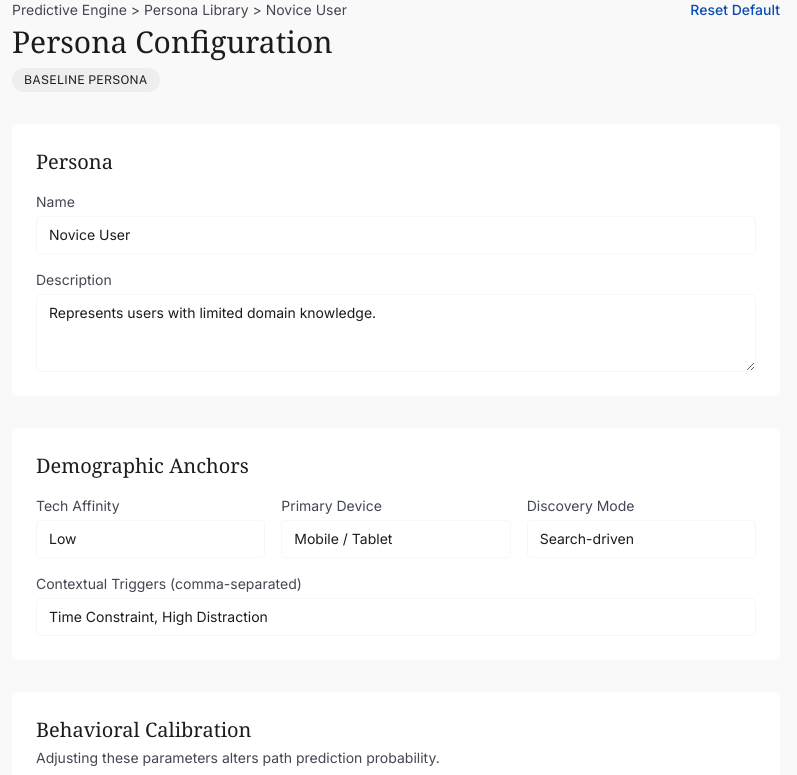
Test: PersonaConfigurationPage › resets a baseline persona to its default values
Step 1. Click the button "Reset Default" → (735, 10), box [690, 0, 780, 20]
(page scrolled)
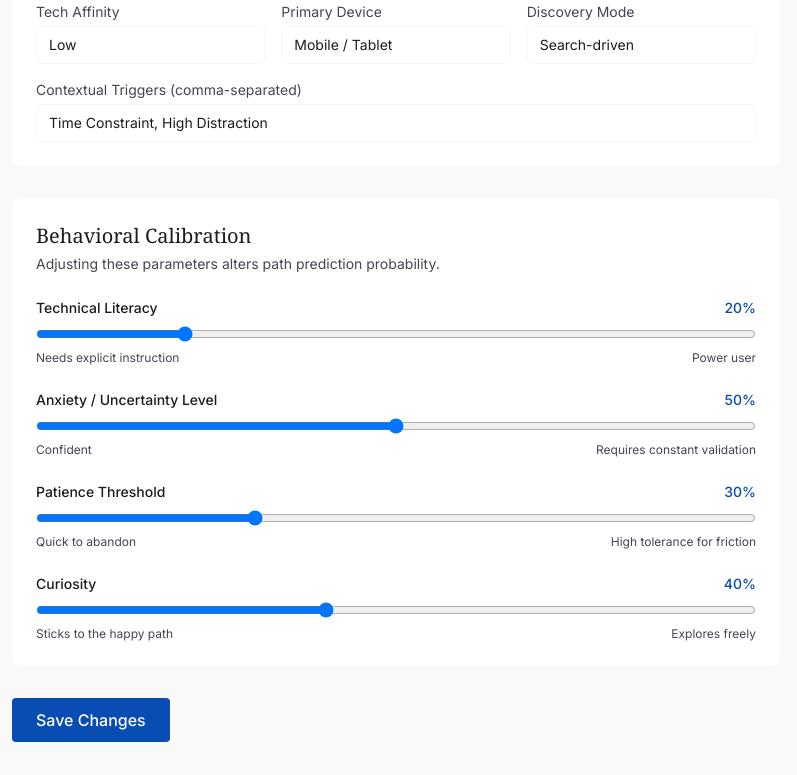
Expected: the text "50%" is shown, [725, 390, 756, 410]
